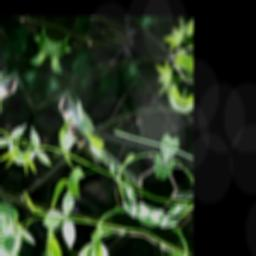Cuckoo: (44, 83, 160, 187)
